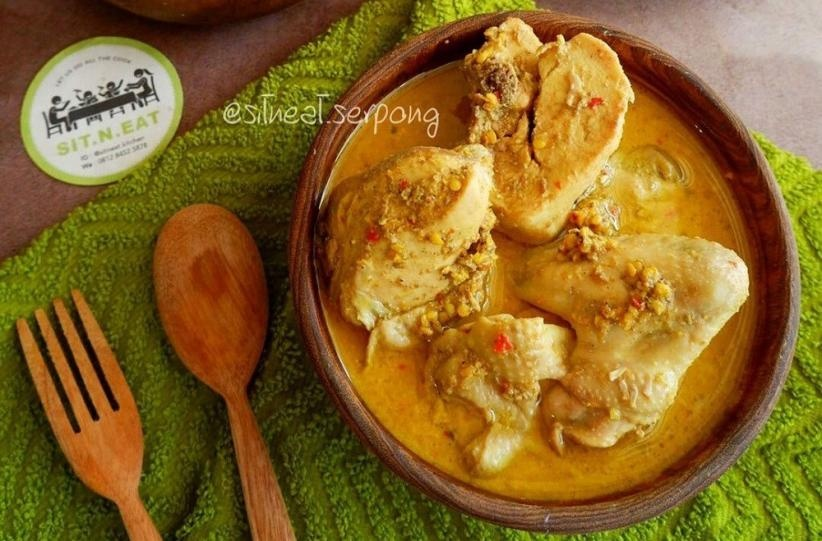gulai_ayam: (314, 17, 787, 494)
